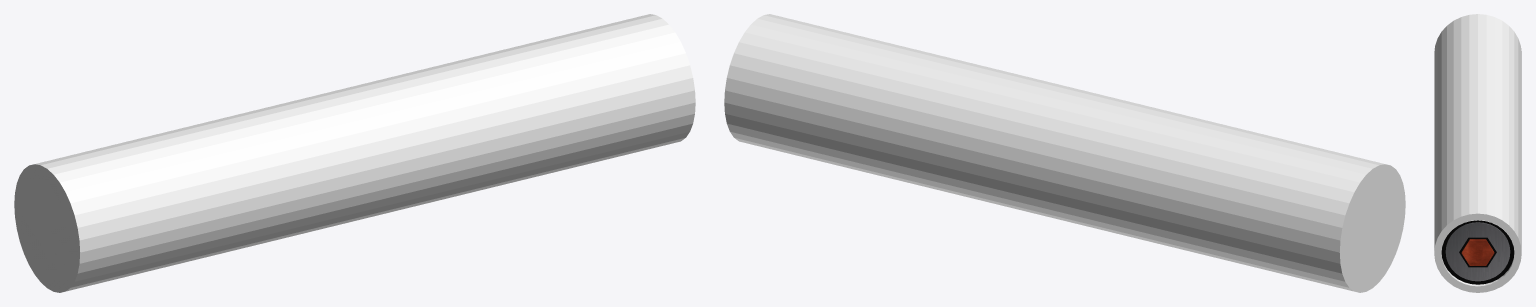
The model's file is wire.glb.
The picture shows the model from 3 angles, left to right: view 1: azimuth 30°, elevation 25°; view 2: azimuth 150°, elevation 25°; view 3: azimuth 270°, elevation 25°; orthographic projection. The views are drawn at different scales.
Visible parts, largest first — view 1: Cylinder; view 2: Cylinder; view 3: Cylinder, Cylinder002, Cylinder001, Cylinder005, Cylinder004.
Part boxes in pixels (<box>): Cylinder: <box>14,14,695,292</box>; Cylinder: <box>724,14,1405,292</box>; Cylinder: <box>1434,14,1521,292</box>; Cylinder002: <box>1445,222,1510,281</box>; Cylinder001: <box>1441,220,1514,284</box>; Cylinder005: <box>1461,239,1494,265</box>; Cylinder004: <box>1459,237,1496,267</box>.
Bounding box in the file's own units: 10.8 × 2 × 2.
6 materials, 2 textured.
